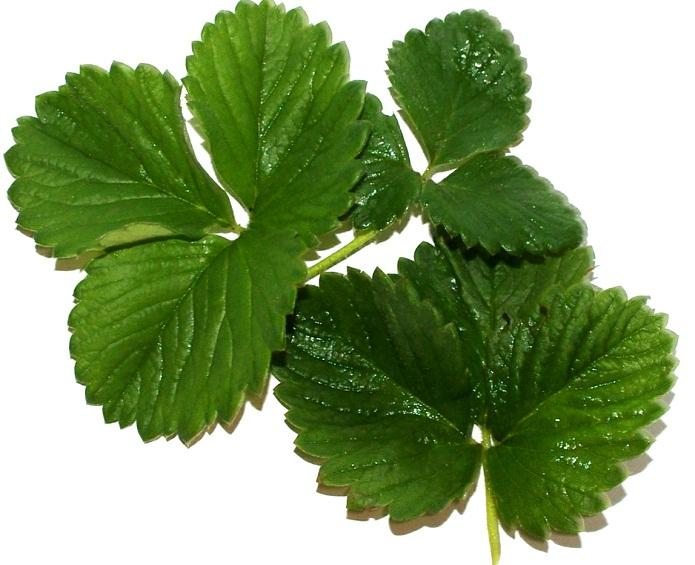Strawberry leaf: (59, 223, 314, 452), (273, 268, 495, 528), (1, 51, 247, 254), (489, 278, 677, 538), (173, 1, 369, 235), (387, 4, 538, 165), (419, 157, 586, 269)
